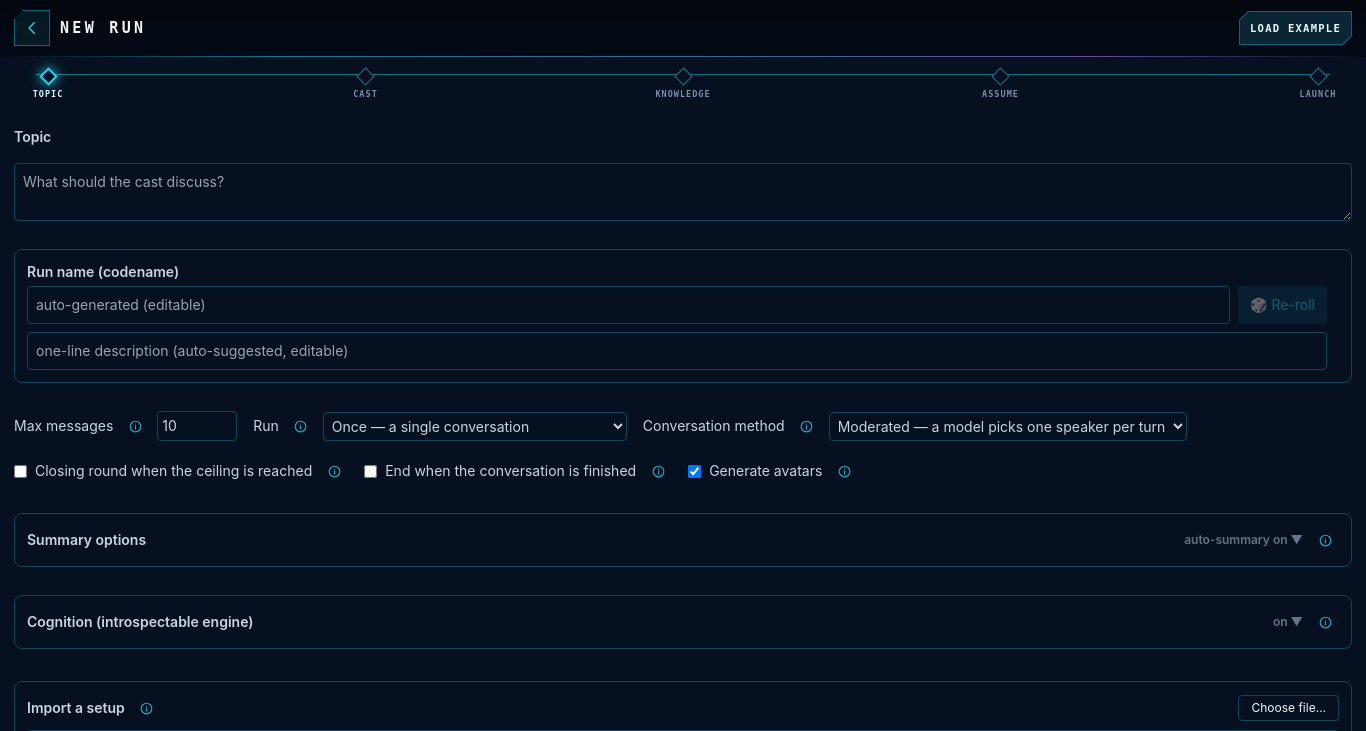
Test: NewRunForm: end when the conversation is finished › raises the turn count to a ceiling when switched on
What coordinates should you click on to do the following:
click the checkbox labelled "End when the conversation is finished"
I would click on:
 (371, 471)
Its box is [364,464,377,478].
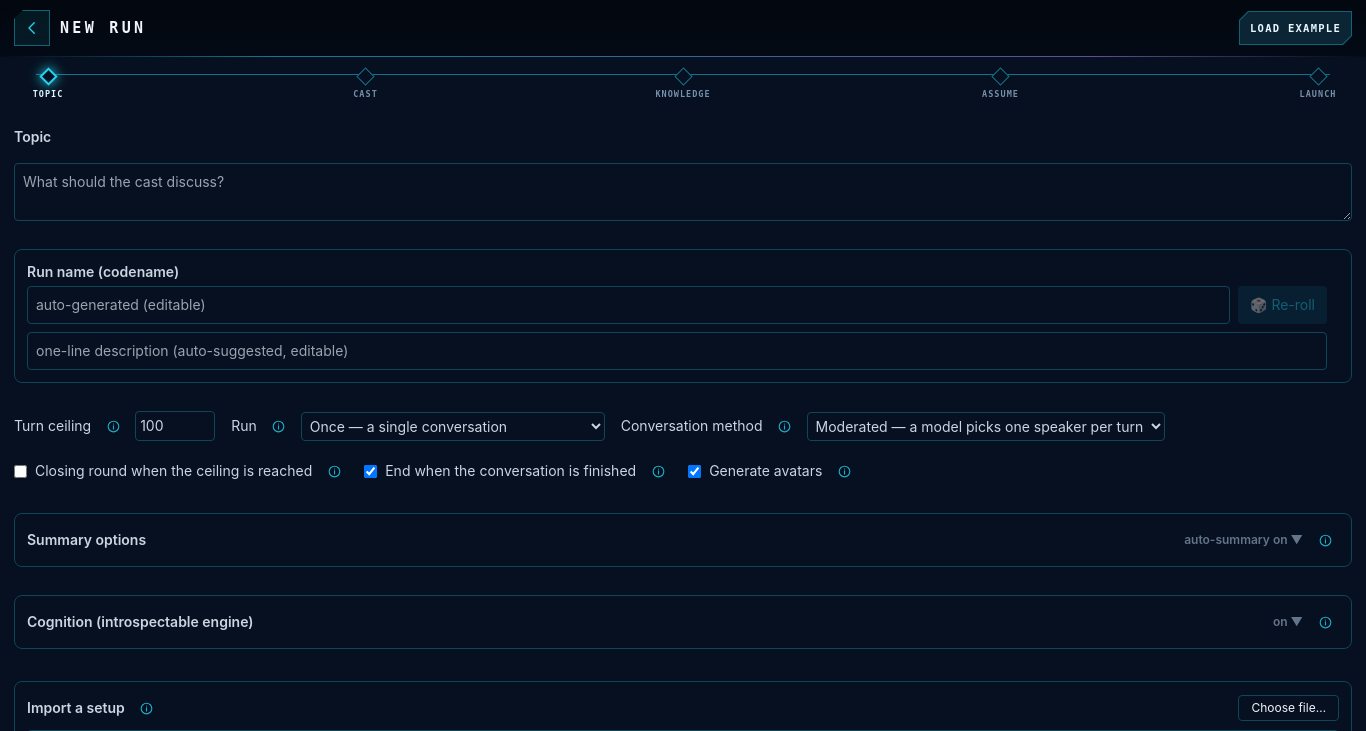
Expected: the text "Turn ceiling" is shown, [14,411,215,441]
